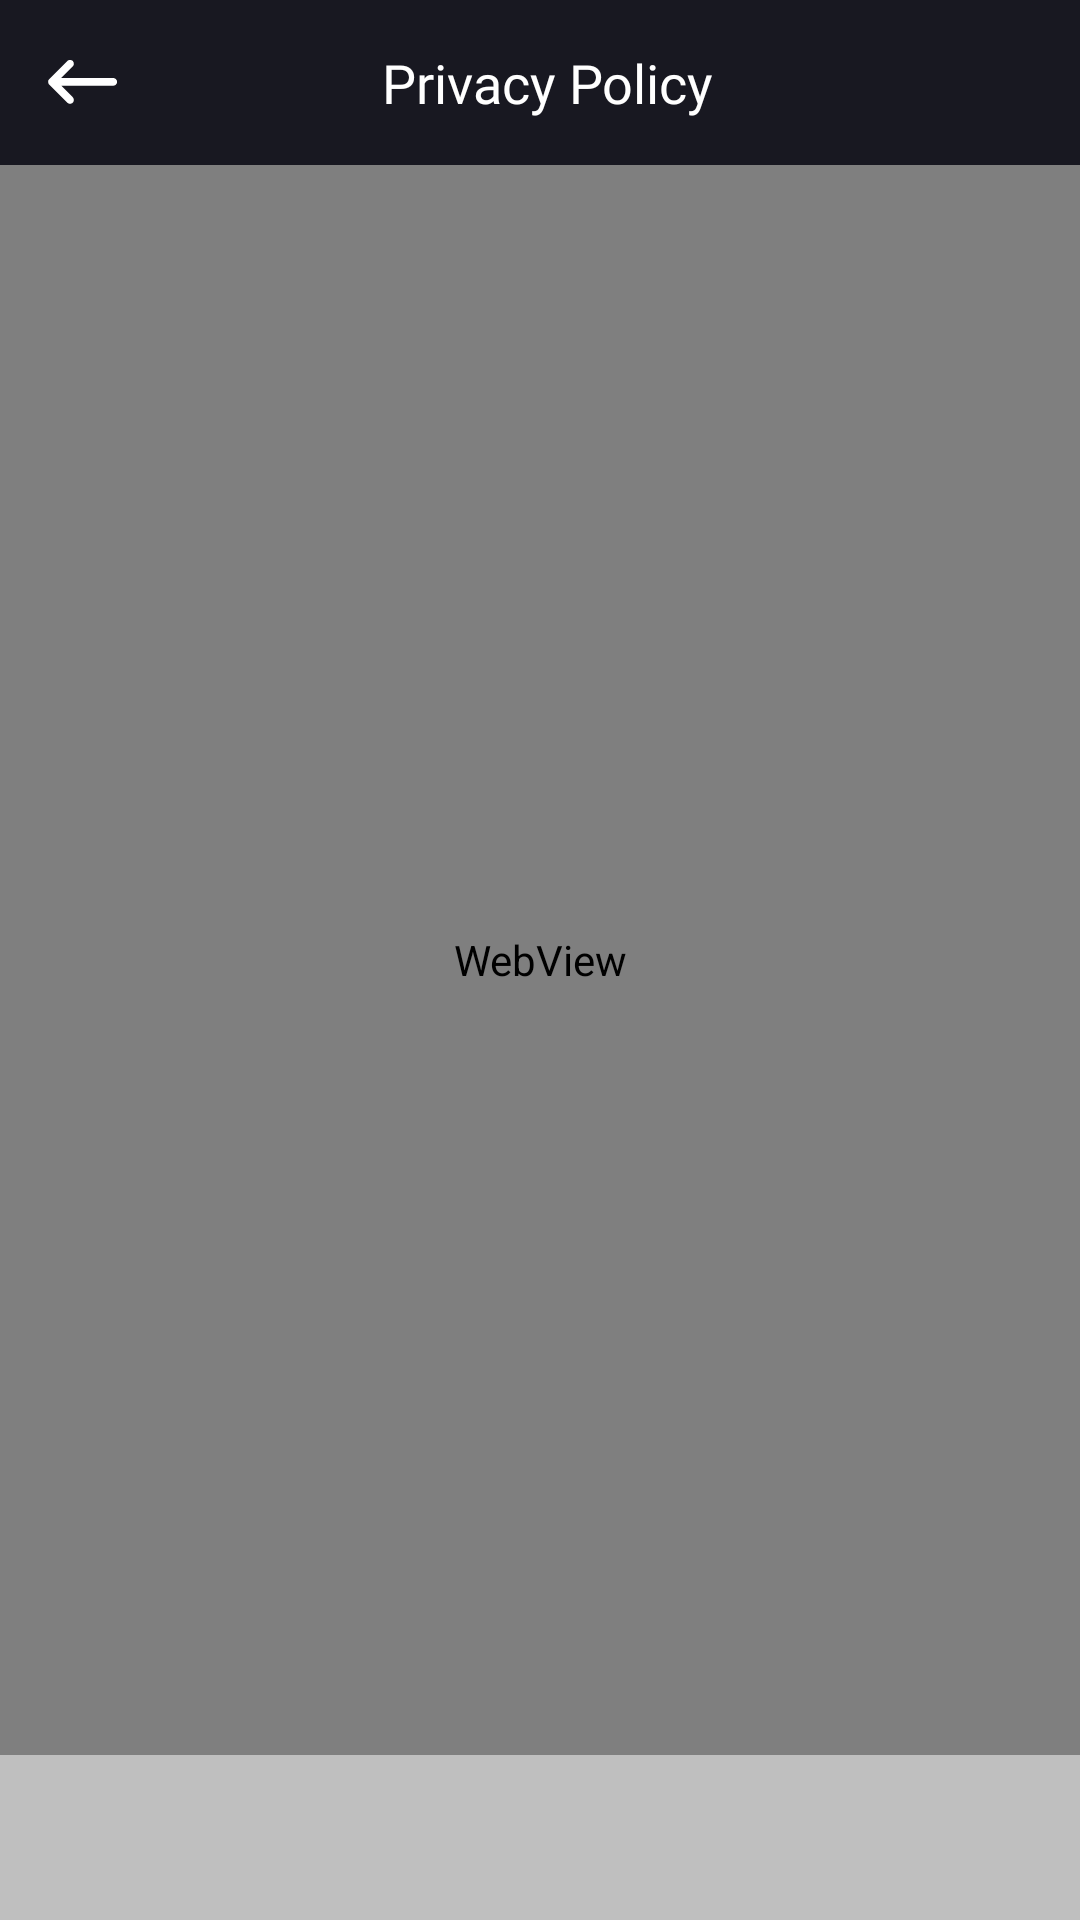

Screen size 1080w x 1920h. Icon name, then its center in pixels as [x,y]:
back: [82,82]
